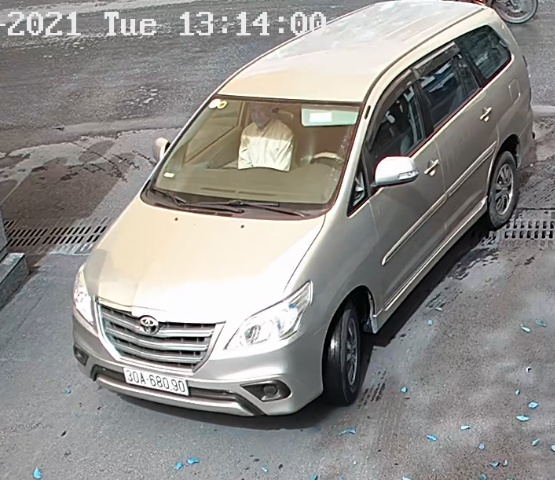vehicle plate: (114, 358, 198, 406)
